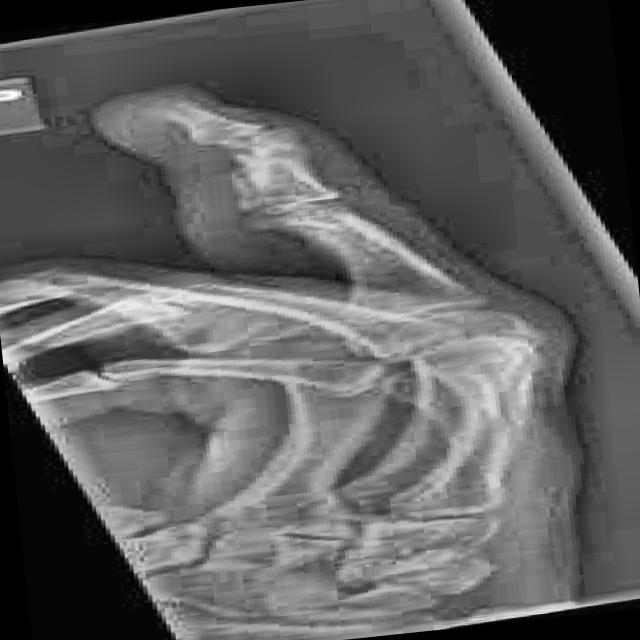fingers positive: (183, 126, 354, 229)
